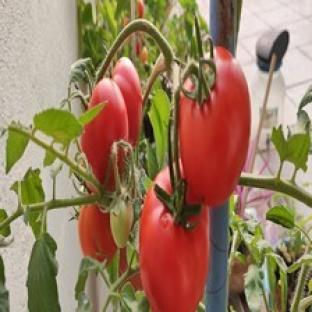Tomato: (179, 48, 250, 206), (140, 169, 210, 311), (81, 78, 128, 183), (112, 58, 142, 146), (78, 205, 116, 261), (111, 198, 133, 247), (120, 248, 128, 274), (140, 46, 147, 64)
